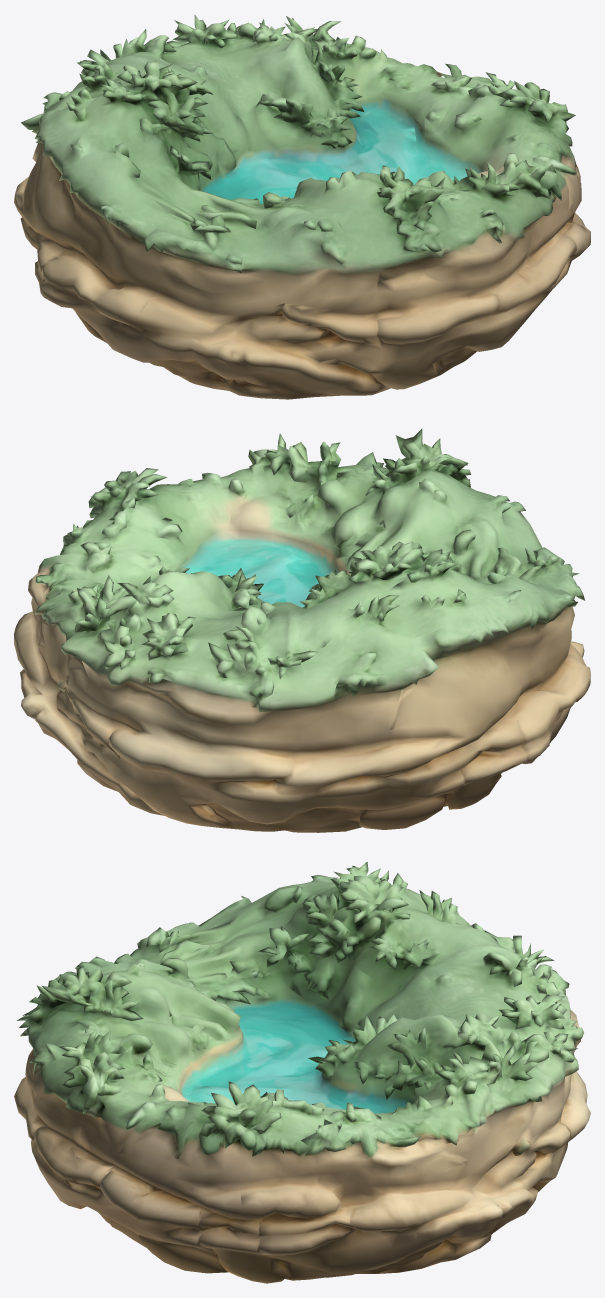
The picture shows the model from 3 angles, top to bottom: view 1: azimuth 30°, elevation 25°; view 2: azimuth 150°, elevation 25°; view 3: azimuth 270°, elevation 25°; orthographic projection. The views are drawn at different scales.
Parts seen in each view (by area): view 1: tripo_node_3ebd2d8c-a3e8-4a0a-82d2-070a8feeccdd; view 2: tripo_node_3ebd2d8c-a3e8-4a0a-82d2-070a8feeccdd; view 3: tripo_node_3ebd2d8c-a3e8-4a0a-82d2-070a8feeccdd.
Part boxes in pixels (left/top/right/bottom): tripo_node_3ebd2d8c-a3e8-4a0a-82d2-070a8feeccdd: left=14, top=14, right=590, bottom=399; tripo_node_3ebd2d8c-a3e8-4a0a-82d2-070a8feeccdd: left=14, top=428, right=590, bottom=832; tripo_node_3ebd2d8c-a3e8-4a0a-82d2-070a8feeccdd: left=14, top=862, right=590, bottom=1283.
Bounding box in the file's own units: 0.3066 × 0.15 × 0.3066.
1 material, 1 textured.
